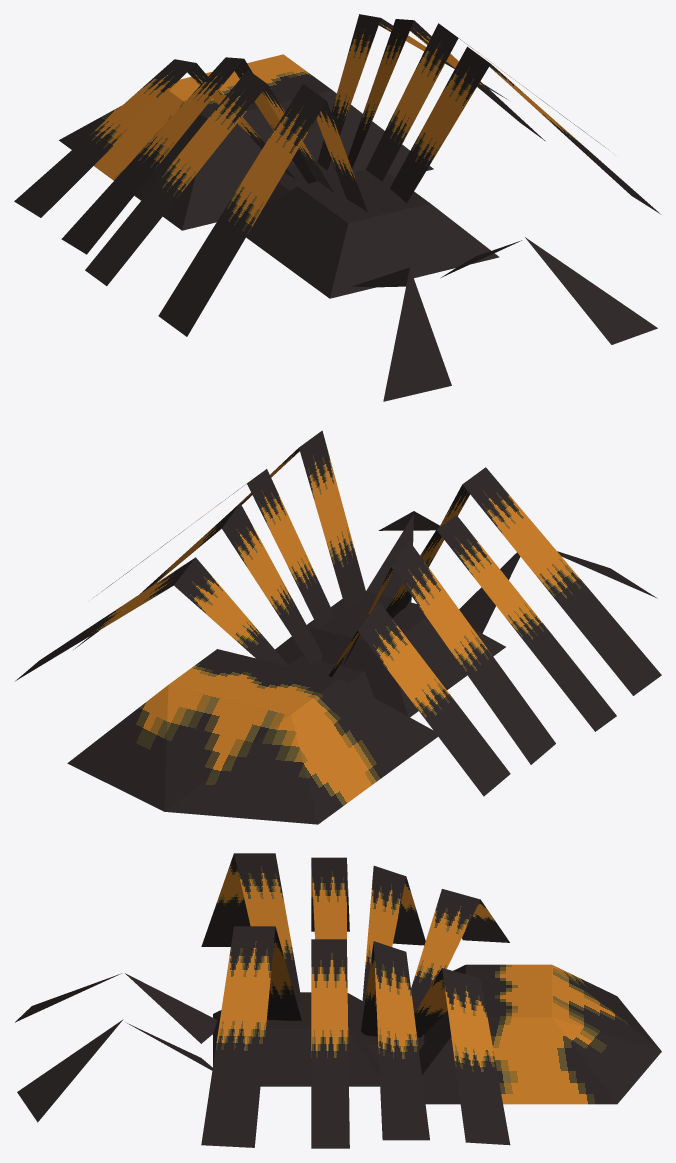
File: spider.obj
3 views of the same model, one above another, from view 1: azimuth 30°, elevation 25°; view 2: azimuth 150°, elevation 25°; view 3: azimuth 270°, elevation 25° (orthographic). The views are drawn at different scales.
Parts seen in each view (by area): view 1: CAV_SPIDER; view 2: CAV_SPIDER; view 3: CAV_SPIDER.
Part boxes in pixels (bbox=[...]): CAV_SPIDER: bbox=[14, 14, 661, 401]; CAV_SPIDER: bbox=[15, 430, 661, 824]; CAV_SPIDER: bbox=[15, 853, 661, 1148].
Bounding box in the file's own units: 3.28 × 1.24 × 4.09.
Materials: 1 (1 with a texture image).
